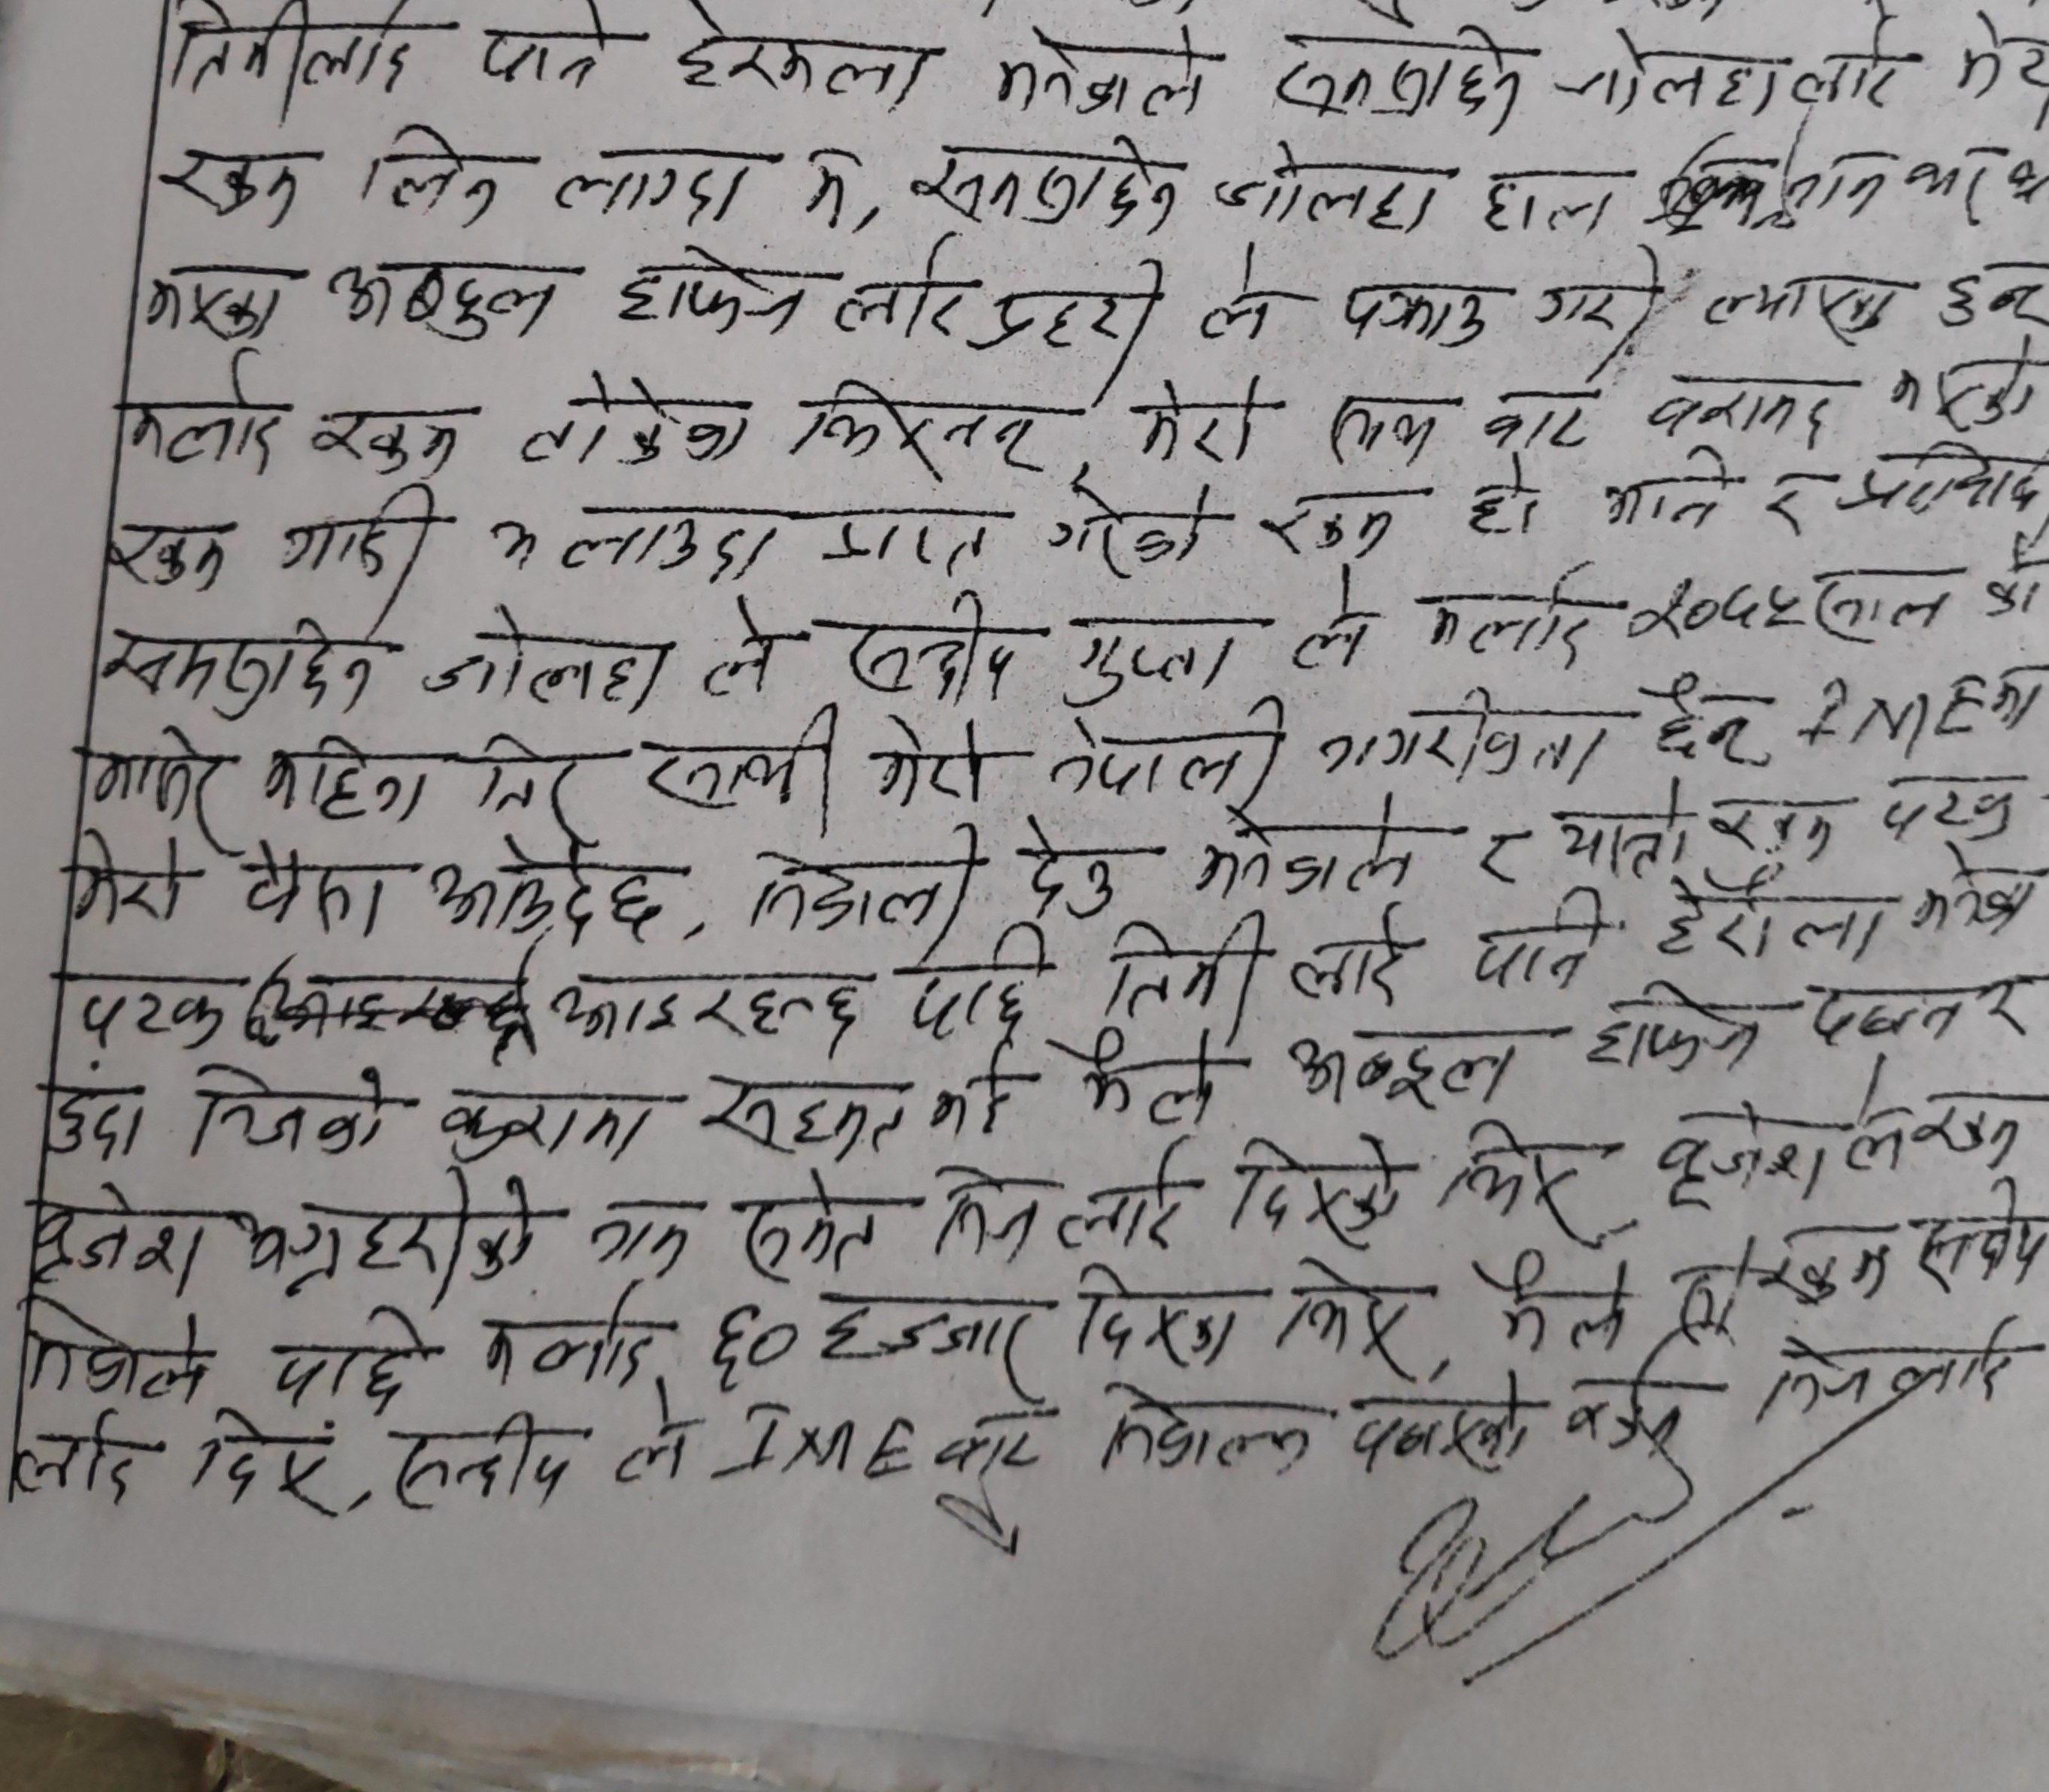text: (227, 1161, 542, 1295), (1319, 682, 1620, 793), (103, 607, 387, 723), (908, 126, 1187, 239), (415, 598, 674, 718), (542, 964, 873, 1056), (423, 823, 666, 943), (747, 821, 983, 945), (477, 493, 791, 586), (1188, 783, 1423, 905), (674, 5, 934, 115), (1033, 690, 1296, 798), (781, 382, 1045, 485), (993, 5, 1216, 126), (1268, 28, 1528, 131), (167, 3, 432, 103), (517, 370, 758, 478), (1763, 1321, 2023, 1419), (822, 587, 1037, 704), (1641, 866, 1883, 969), (986, 251, 1169, 387), (1087, 1375, 1321, 1482), (324, 251, 571, 350), (1277, 1016, 1521, 1116), (1559, 21, 1786, 122), (1209, 141, 1464, 230), (643, 704, 845, 816), (1340, 1368, 1535, 1483), (1437, 1116, 1603, 1250), (1228, 1123, 1410, 1245), (610, 235, 814, 342), (814, 1288, 1038, 1384), (697, 1063, 911, 1163), (125, 354, 294, 479), (1068, 1255, 1237, 1381), (1415, 561, 1605, 673), (1096, 910, 1277, 1027), (179, 1060, 399, 1156), (908, 913, 1052, 1053), (1652, 1096, 1829, 1208), (434, 1077, 652, 1168), (390, 1412, 582, 1515), (197, 1403, 347, 1534), (256, 727, 446, 830), (28, 1302, 211, 1407), (1474, 1248, 1640, 1361), (35, 1180, 207, 1288), (1061, 607, 1242, 709), (549, 141, 775, 223), (1702, 253, 1915, 340), (477, 1288, 650, 1395), (279, 479, 443, 591), (801, 493, 1011, 580), (1275, 1248, 1423, 1370), (267, 1299, 423, 1414), (1791, 146, 2002, 230), (1467, 873, 1608, 997), (1049, 1140, 1192, 1260), (1643, 366, 1847, 450), (1911, 1178, 2049, 1302), (1584, 983, 1763, 1077), (235, 833, 389, 943), (833, 239, 977, 354), (739, 1168, 885, 1281), (155, 139, 331, 234), (1845, 438, 2049, 518), (359, 122, 512, 228), (1129, 363, 1274, 474), (66, 960, 227, 1058), (1042, 483, 1216, 572), (1552, 776, 1699, 880), (87, 723, 230, 828), (1887, 338, 2046, 432), (1288, 905, 1417, 1018), (1798, 969, 1964, 1056), (1615, 575, 1802, 652), (1073, 1030, 1218, 1128), (139, 256, 298, 345), (1005, 802, 1127, 917), (1908, 840, 2044, 941), (1871, 764, 2026, 851), (1533, 246, 1669, 345), (866, 708, 995, 812), (1814, 558, 1957, 652), (1755, 1218, 1906, 1306), (474, 3, 617, 96), (17, 1410, 150, 1510), (460, 729, 591, 828), (1640, 666, 1770, 765), (1336, 279, 1497, 359), (1594, 448, 1735, 539), (1786, 21, 1911, 120), (308, 397, 470, 474), (75, 826, 190, 933), (1701, 784, 1842, 870), (1911, 1086, 2046, 1175), (1253, 490, 1415, 563), (927, 1156, 1037, 1262), (1481, 159, 1619, 241), (1281, 565, 1375, 682), (605, 1384, 702, 1490), (1315, 392, 1451, 467), (578, 1194, 697, 1276), (105, 518, 240, 587), (1934, 256, 2049, 338), (700, 594, 793, 696), (934, 1407, 1052, 1485), (1194, 241, 1281, 345), (925, 1046, 1016, 1144), (706, 1304, 805, 1391), (45, 1074, 146, 1159), (1669, 1236, 1751, 1339), (1476, 389, 1605, 450), (1979, 535, 2049, 633), (1464, 460, 1544, 544), (801, 141, 855, 239), (1840, 1105, 1911, 1177), (1760, 469, 1814, 551), (1472, 823, 1525, 887)
